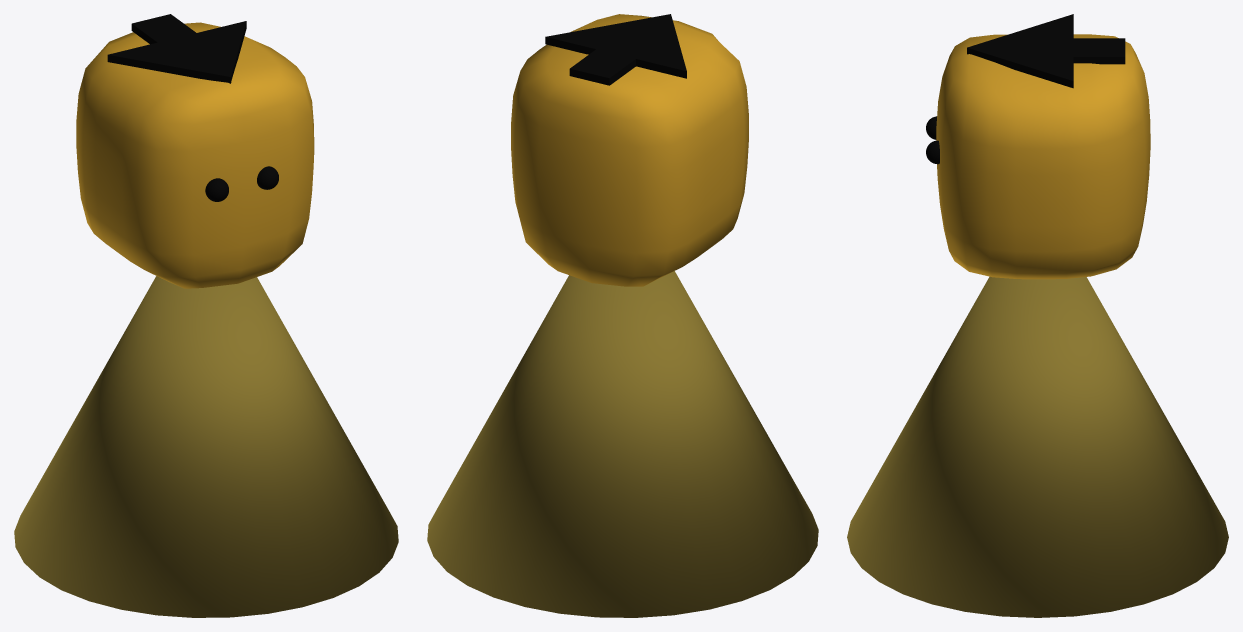
The model's file is Character 3.obj.
3 renders of one model, left to right at view 1: azimuth 30°, elevation 25°; view 2: azimuth 150°, elevation 25°; view 3: azimuth 270°, elevation 25°, orthographic. The views are drawn at different scales.
Parts seen in each view (by area): view 1: 1_Cone.006_Cone.001, 2_Cube.002_Cube.033_Cube.002_Cube.016; view 2: 1_Cone.006_Cone.001, 2_Cube.002_Cube.033_Cube.002_Cube.016; view 3: 1_Cone.006_Cone.001, 2_Cube.002_Cube.033_Cube.002_Cube.016.
Part boxes in pixels (x1,y1,x2,y2): 1_Cone.006_Cone.001: (14,22,398,617); 2_Cube.002_Cube.033_Cube.002_Cube.016: (107,14,278,201); 1_Cone.006_Cone.001: (427,14,818,617); 2_Cube.002_Cube.033_Cube.002_Cube.016: (545,14,686,85); 1_Cone.006_Cone.001: (847,34,1228,617); 2_Cube.002_Cube.033_Cube.002_Cube.016: (926,14,1125,164).
Bounding box in the file's own units: 0.3141 × 0.4393 × 0.3141.
